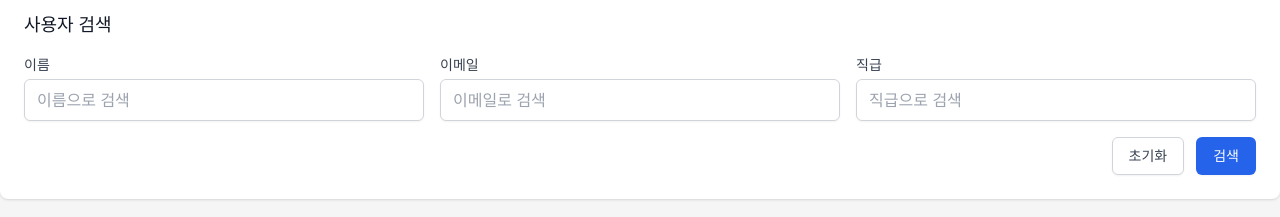
Scenario: SearchForm Component › resets form values when reset button is clicked
The image size is (1280, 217).
// 이름 입력 필드에 값 입력
Type "홍길동" into the field labelled "이름" at (224,100), box [24,79,424,121]
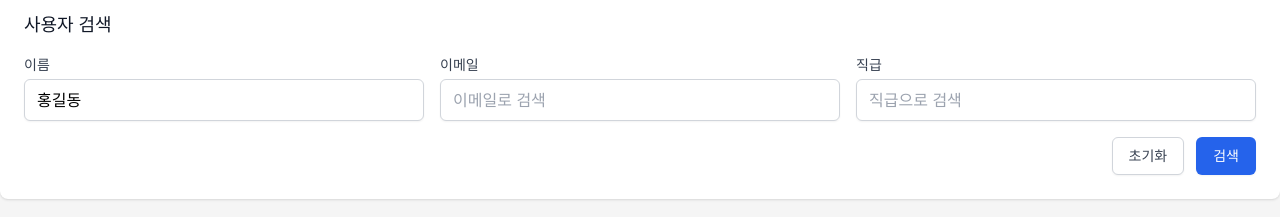
// 이메일 입력 필드에 값 입력
Type "hong@example.com" into the field labelled "이메일" at (640,100), box [440,79,840,121]
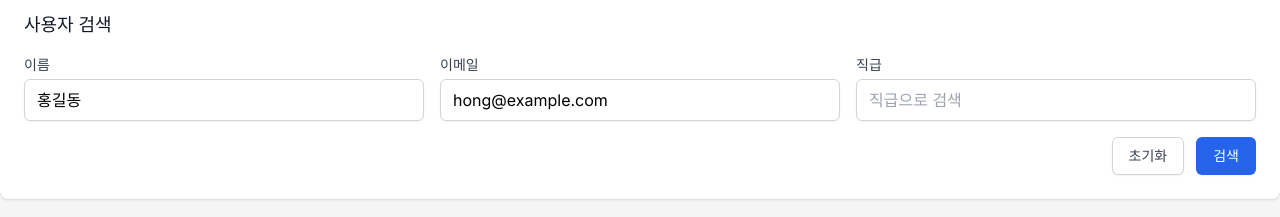
// 초기화 버튼 클릭
Click the button "초기화" at (1148,156), box [1112,137,1184,175]
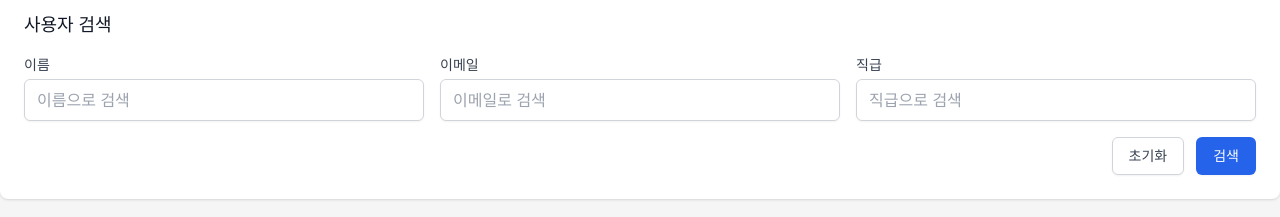
Expected: the field labelled "이름" is empty, [24,79,424,121]
Expected: the field labelled "이메일" is empty, [440,79,840,121]
